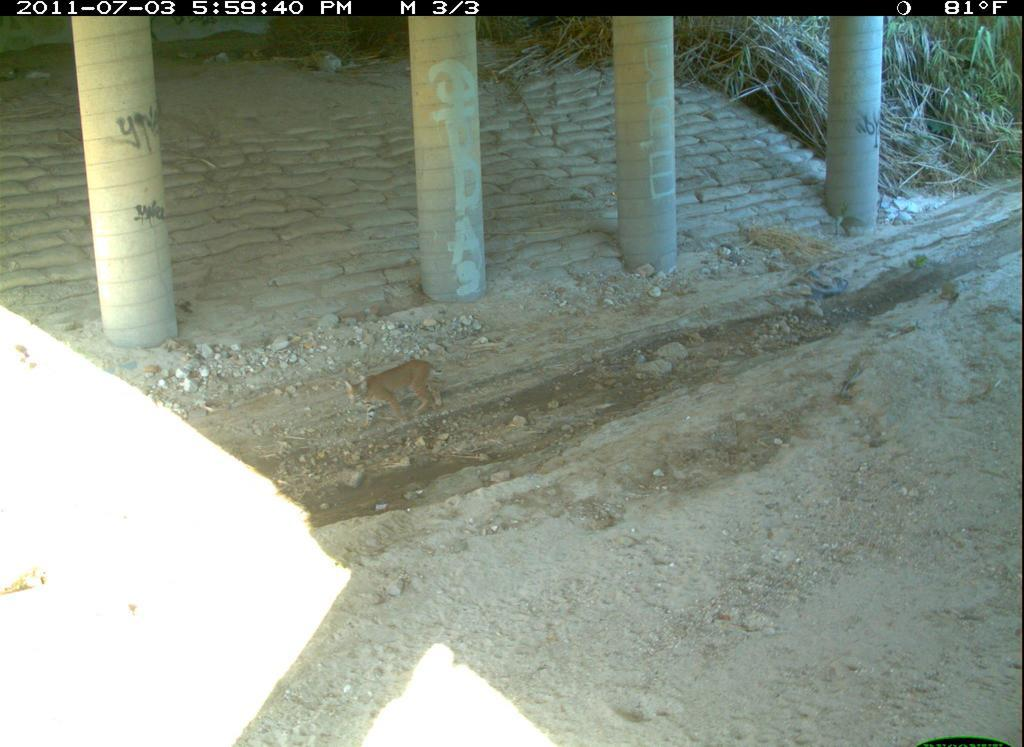bobcat: (674, 707, 899, 747)
